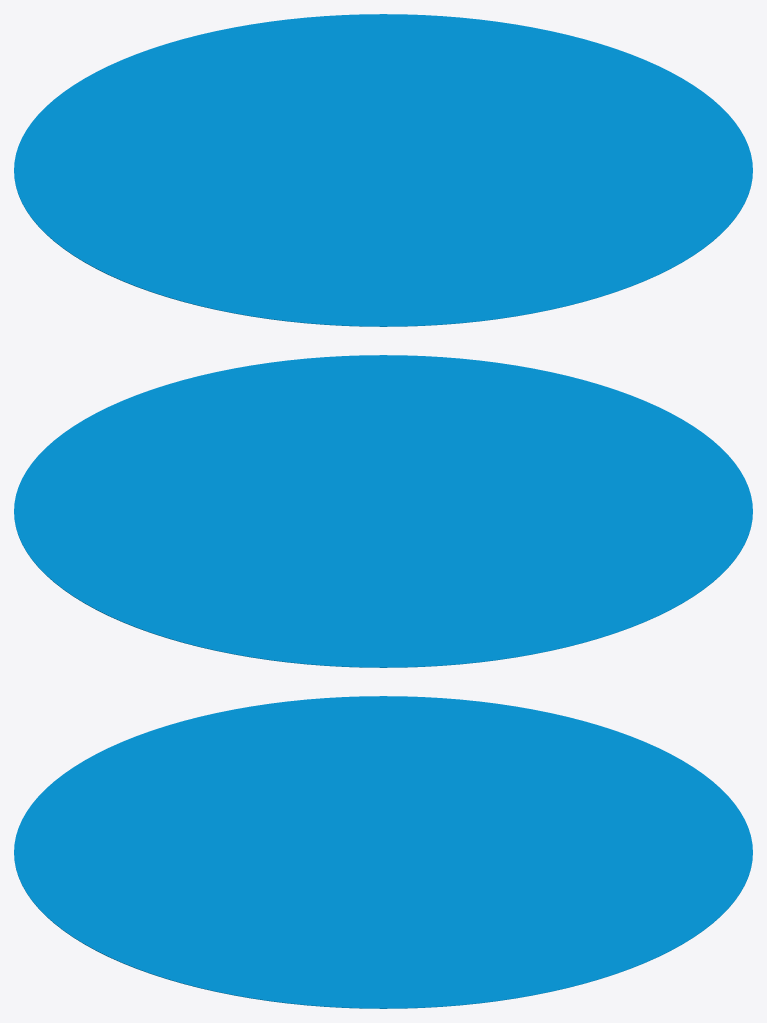
Rendered from circle_glb.glb.
3 renders of one model, top to bottom at view 1: azimuth 30°, elevation 25°; view 2: azimuth 150°, elevation 25°; view 3: azimuth 270°, elevation 25°, orthographic.
Size of the model in its own units: 0.0153 by 1e-05 by 0.0153.
